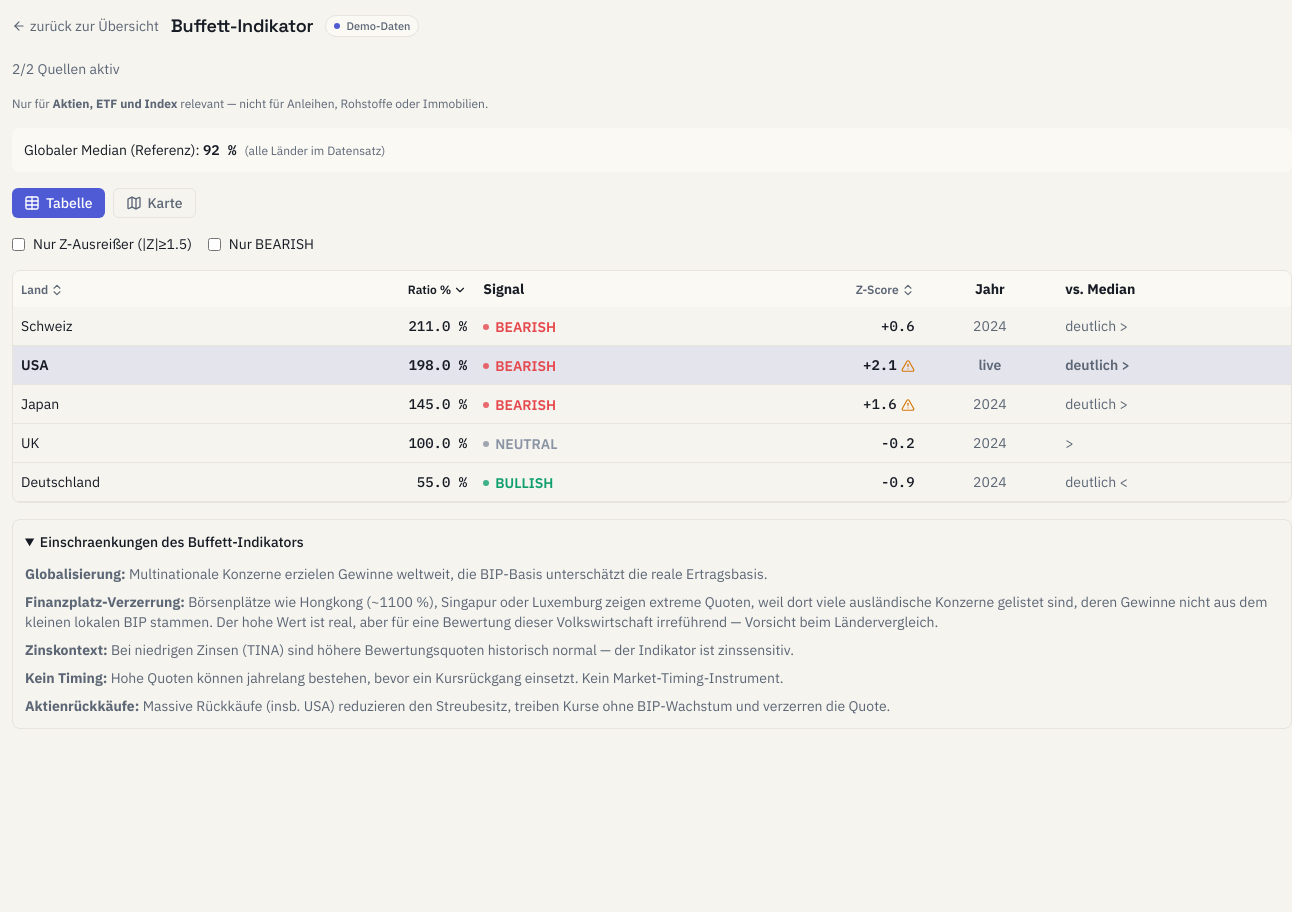
Test case: BuffettWidget (C1) › Tab 'Karte' wechselbar: Karten-Container erscheint
expect the text "USA" is shown: met, box [13,346,271,384]
Step 1. Click the button "Karte" → (154, 203), box [112,188,196,218]
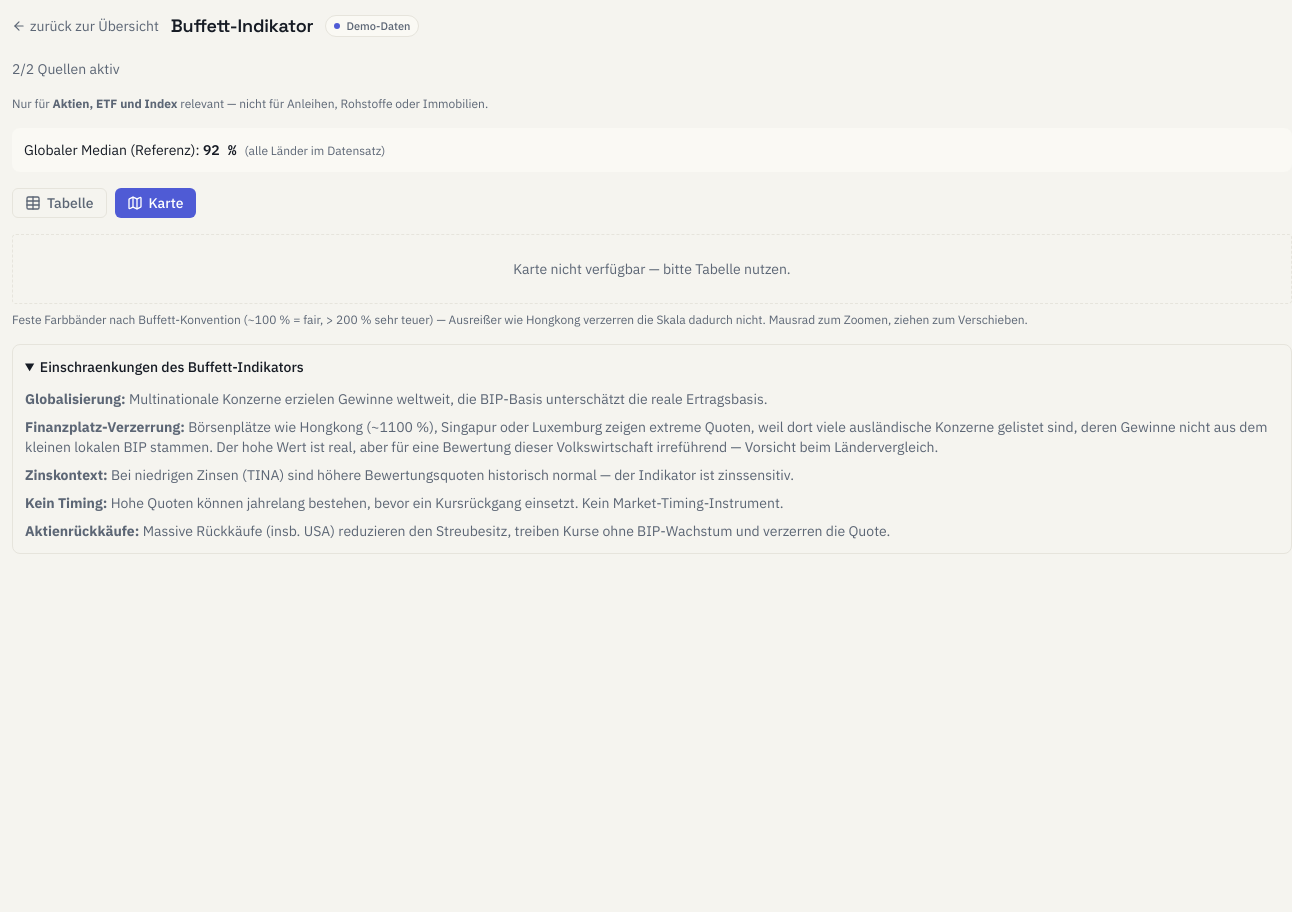
expect the text "Karte nicht verfügbar — bitte Tabelle nutzen." is shown: met, box [12,234,1291,304]
